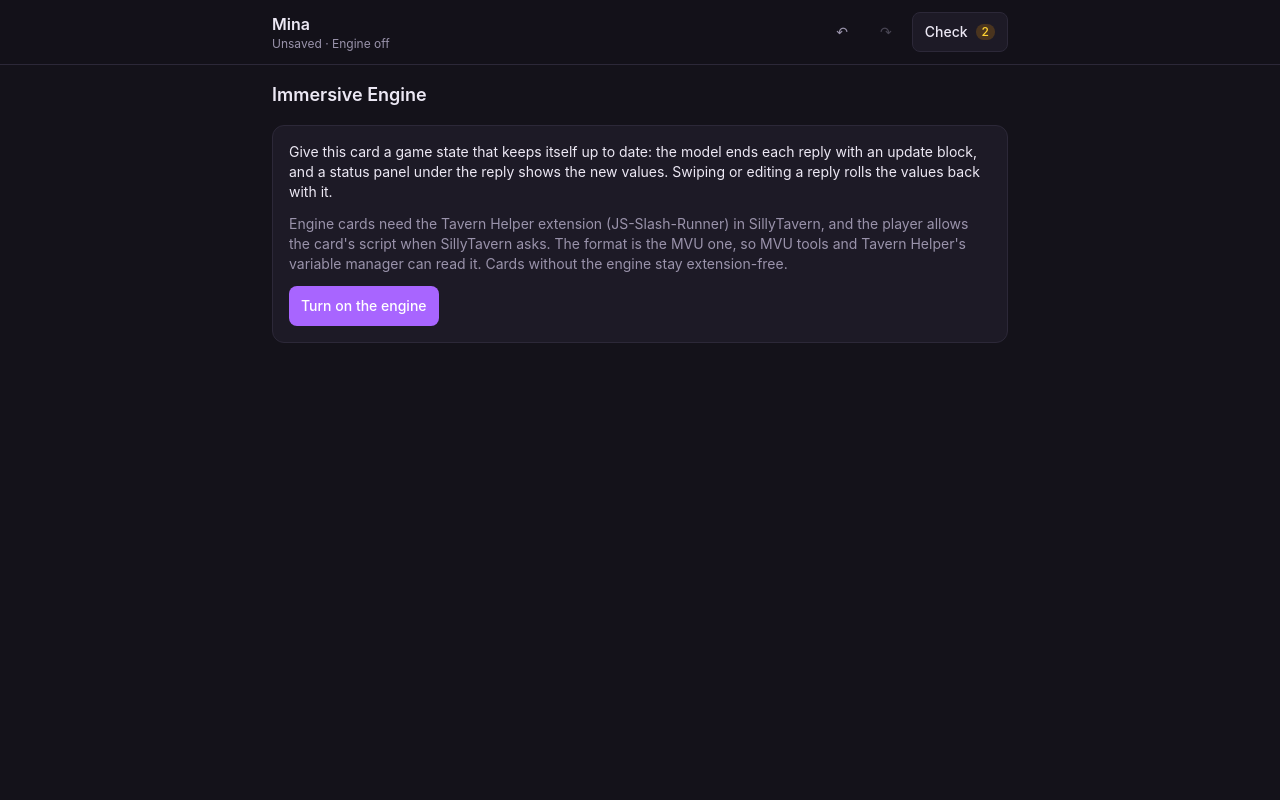
the engineer without screenshots › is chosen per model or per run, and the engineer is told
This screenshot has width=1280, height=800.
Click the button "Turn on the engine" at (364, 306), box [289, 286, 438, 326]
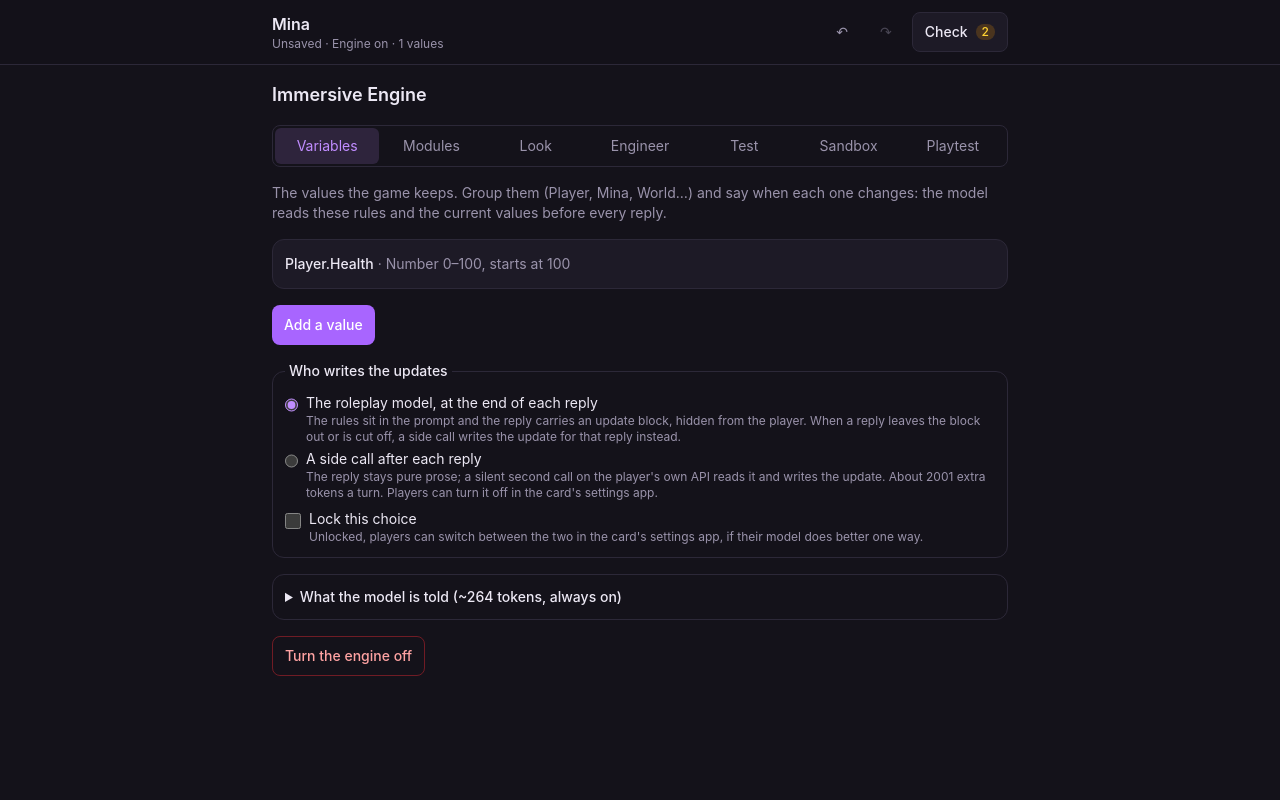
Click the tab "Engineer" at (640, 146), box [588, 128, 692, 164]
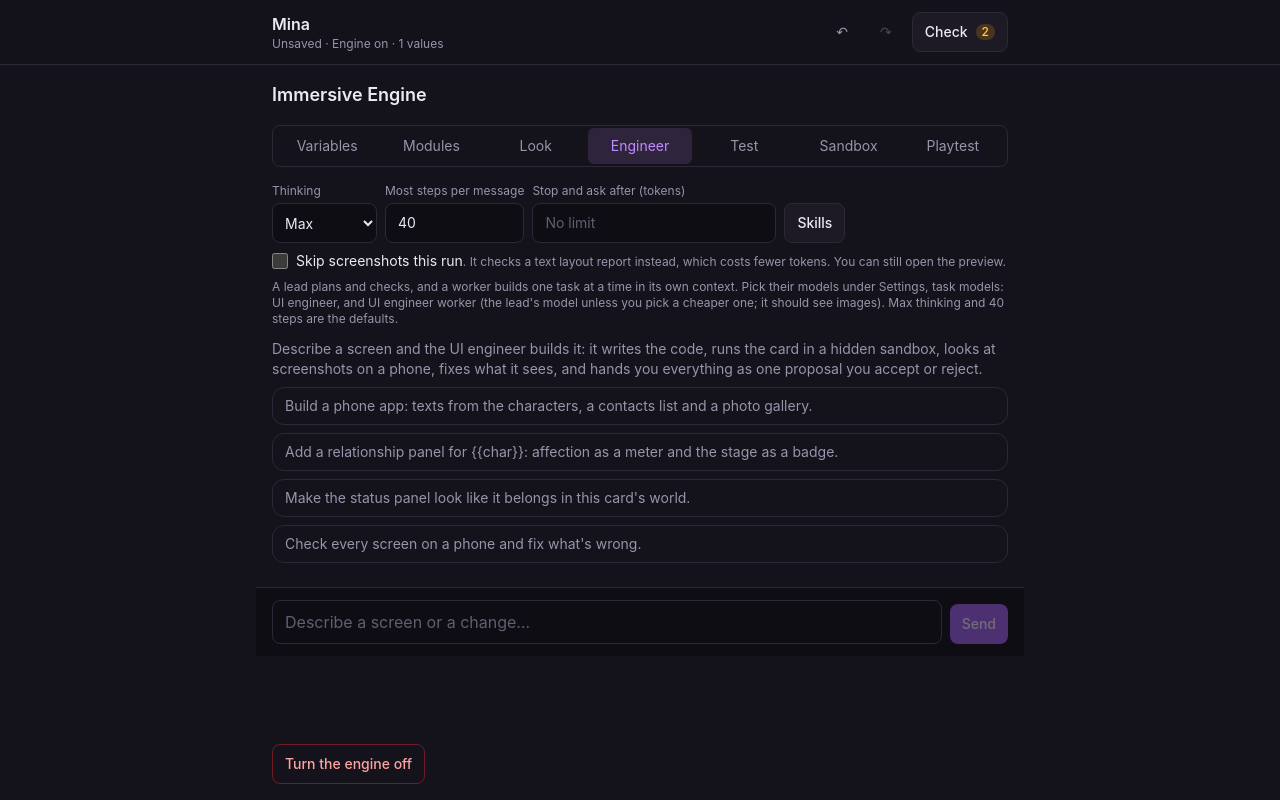
Click the checkbox labelled "Skip screenshots this run" at (280, 261), box [272, 253, 288, 269]
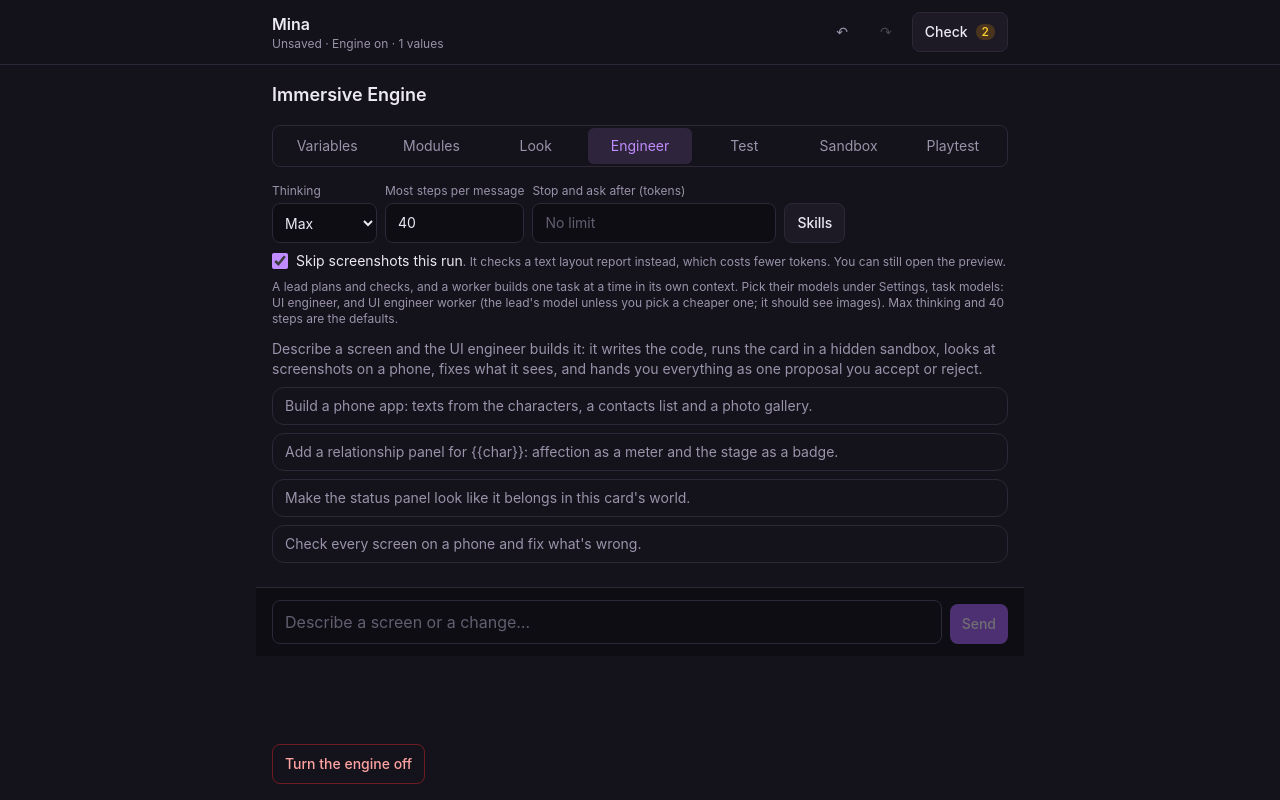
Type "Look" into the text box named "Message to the UI engineer" at (607, 622), box [272, 600, 942, 644]
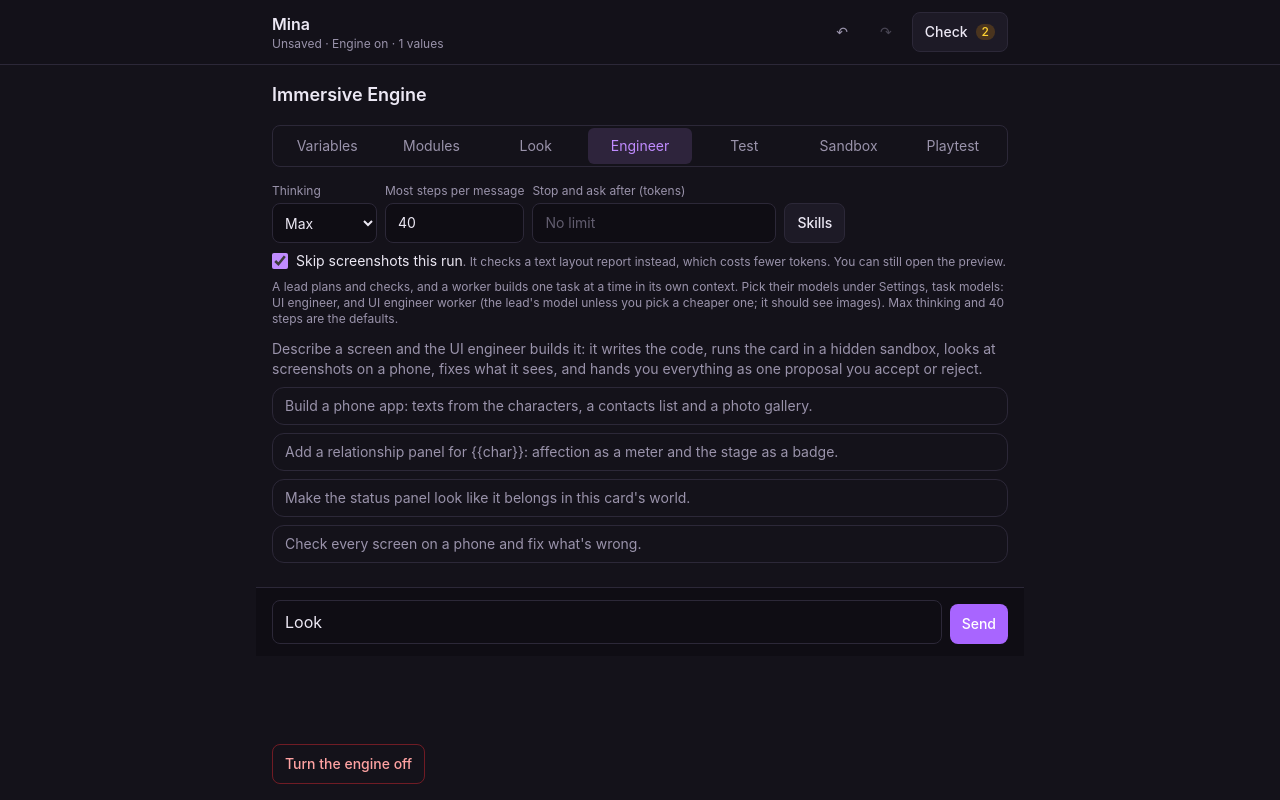
Click the button "Send" at (979, 624), box [950, 604, 1008, 644]
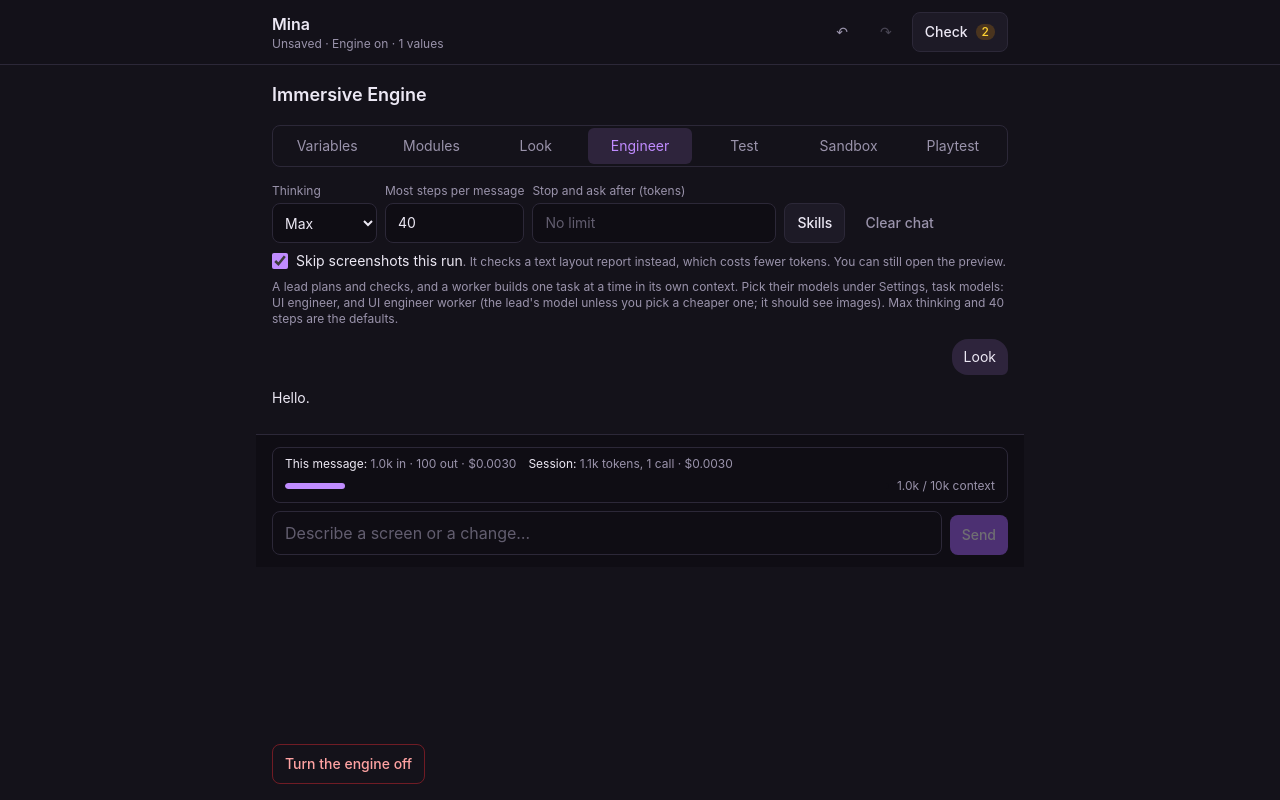
Result: the text "Hello." is shown at [272, 389, 310, 406]
